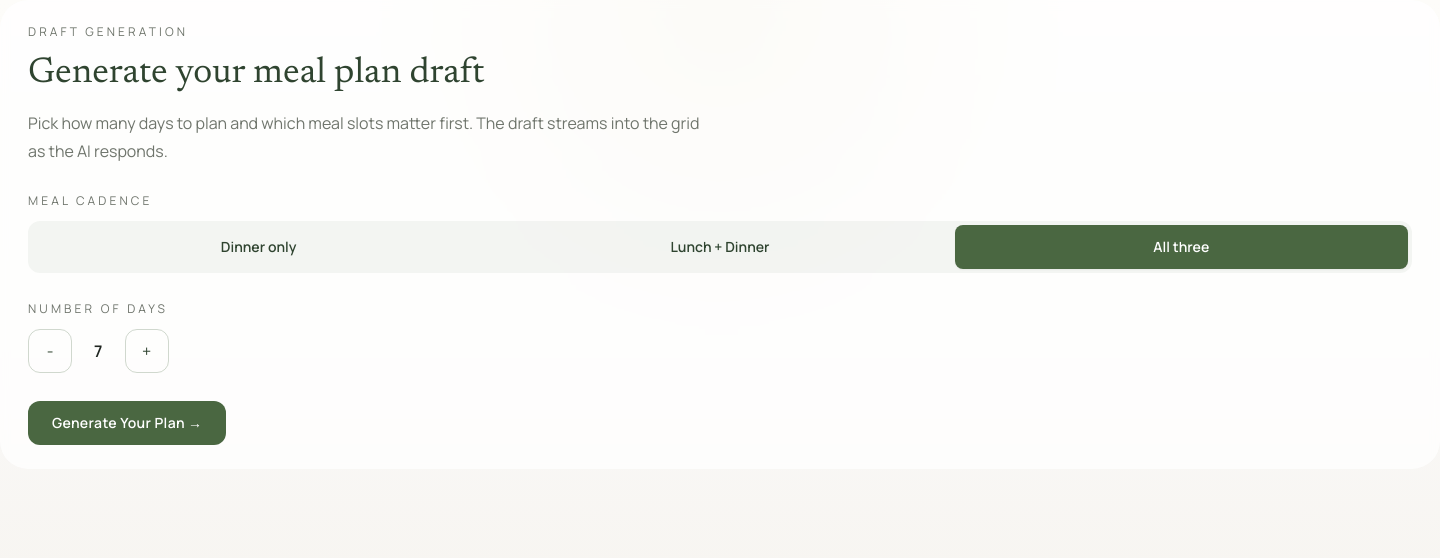
Test: GenerationForm › shows an error if no household exists yet
Click the button "Generate Your Plan →".
click(127, 423)  # box top-left (28, 401), bottom-right (226, 445)
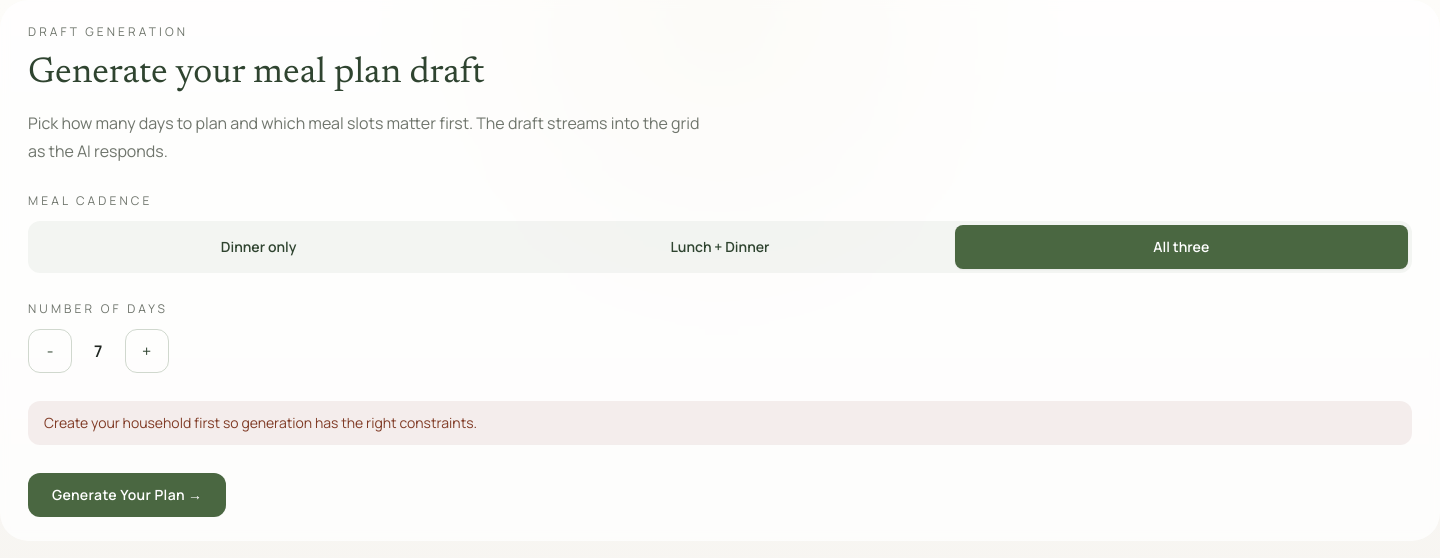
expect the message reads "Create your household first so generation has the right constraints.": met, box top-left (44, 413), bottom-right (477, 432)
